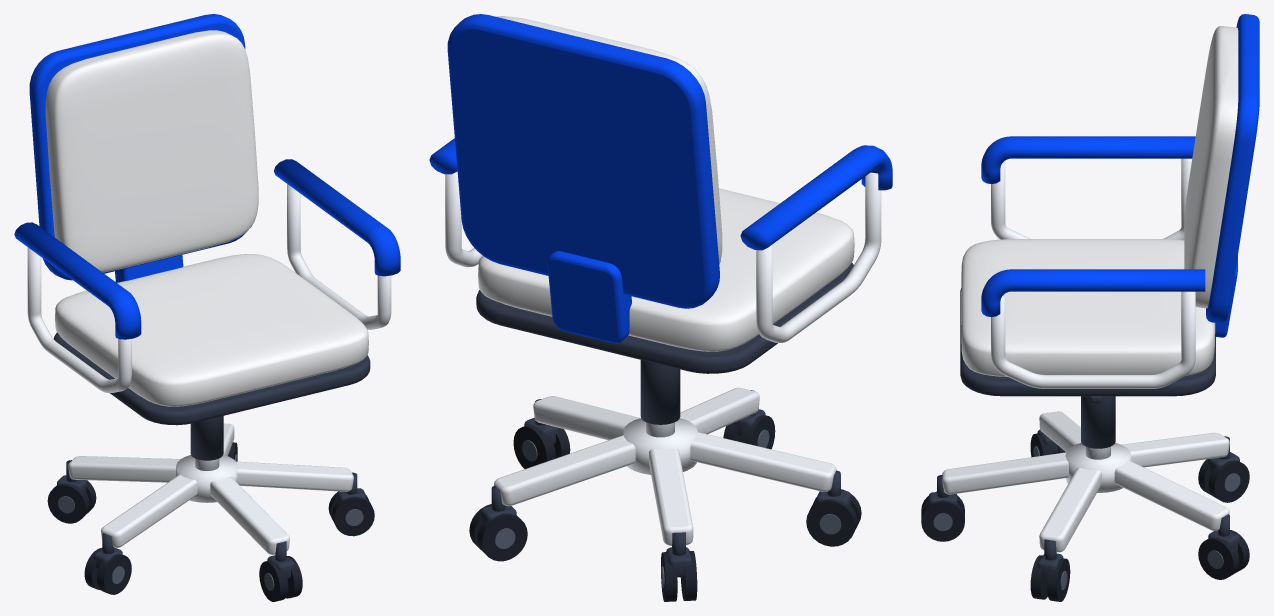
File: 16-nodeworks-office-chair.glb
The picture shows the model from 3 angles, left to right: view 1: azimuth 30°, elevation 25°; view 2: azimuth 150°, elevation 25°; view 3: azimuth 270°, elevation 25°; orthographic projection. The views are drawn at different scales.
Parts seen in each view (by area): view 1: white_backrest_cushion, white_seat_cushion, blue_backrest_shell, dark_underseat_shell, right_blue_armrest_pad, left_blue_armrest_pad, left_white_arm_support, base_spoke_2, base_spoke_5, right_white_arm_support, base_spoke_4, base_spoke_1 (+7 smaller); view 2: blue_backrest_shell, white_seat_cushion, dark_underseat_shell, blue_lower_back_support, left_blue_armrest_pad, left_white_arm_support, base_spoke_5, base_spoke_3, base_spoke_4, base_spoke_2, dark_height_adjustment_sleeve, white_backrest_cushion (+9 smaller); view 3: white_seat_cushion, white_backrest_cushion, blue_backrest_shell, right_blue_armrest_pad, left_blue_armrest_pad, right_white_arm_support, dark_underseat_shell, base_spoke_1, base_spoke_3, base_spoke_2, base_spoke_4, left_white_arm_support (+7 smaller).
Boxes of the visible parts, x1=… form: white_backrest_cushion: x1=45, y1=30, x2=258, y2=272; white_seat_cushion: x1=55, y1=254, x2=368, y2=406; blue_backrest_shell: x1=29, y1=14, x2=245, y2=280; dark_underseat_shell: x1=53, y1=332, x2=370, y2=425; right_blue_armrest_pad: x1=274, y1=159, x2=400, y2=276; left_blue_armrest_pad: x1=14, y1=222, x2=141, y2=339; left_white_arm_support: x1=27, y1=247, x2=131, y2=392; base_spoke_2: x1=236, y1=461, x2=353, y2=491; base_spoke_5: x1=101, y1=474, x2=197, y2=547; right_white_arm_support: x1=287, y1=184, x2=391, y2=329; base_spoke_4: x1=68, y1=456, x2=180, y2=482; base_spoke_1: x1=210, y1=476, x2=289, y2=554; blue_backrest_shell: x1=447, y1=14, x2=719, y2=308; white_seat_cushion: x1=478, y1=188, x2=854, y2=351; dark_underseat_shell: x1=476, y1=262, x2=853, y2=373; blue_lower_back_support: x1=547, y1=251, x2=631, y2=343; left_blue_armrest_pad: x1=740, y1=145, x2=892, y2=250; left_white_arm_support: x1=756, y1=172, x2=881, y2=342; base_spoke_5: x1=690, y1=432, x2=836, y2=491; base_spoke_3: x1=494, y1=435, x2=635, y2=506; base_spoke_4: x1=649, y1=448, x2=693, y2=545; base_spoke_2: x1=533, y1=396, x2=640, y2=440; dark_height_adjustment_sleeve: x1=640, y1=360, x2=680, y2=424; white_backrest_cushion: x1=496, y1=16, x2=722, y2=264; white_seat_cushion: x1=961, y1=239, x2=1215, y2=376; white_backrest_cushion: x1=1184, y1=26, x2=1238, y2=308; blue_backrest_shell: x1=1206, y1=14, x2=1259, y2=323; right_blue_armrest_pad: x1=981, y1=269, x2=1205, y2=316; left_blue_armrest_pad: x1=981, y1=136, x2=1195, y2=183; right_white_arm_support: x1=991, y1=291, x2=1195, y2=388; dark_underseat_shell: x1=960, y1=288, x2=1215, y2=396; base_spoke_1: x1=942, y1=452, x2=1068, y2=494; base_spoke_3: x1=1114, y1=460, x2=1229, y2=530; base_spoke_2: x1=1039, y1=467, x2=1101, y2=552; base_spoke_4: x1=1122, y1=432, x2=1229, y2=467; left_white_arm_support: x1=991, y1=158, x2=1191, y2=240.
Size of the model in its own units: 0.6786 by 1.04 by 0.6649.
